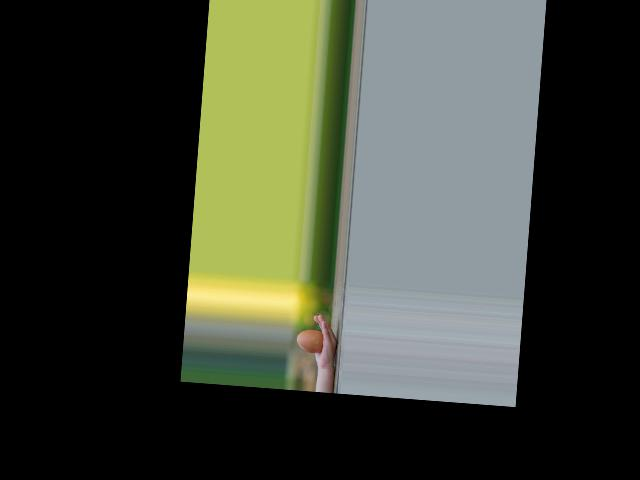egg: (296, 329, 324, 354)
